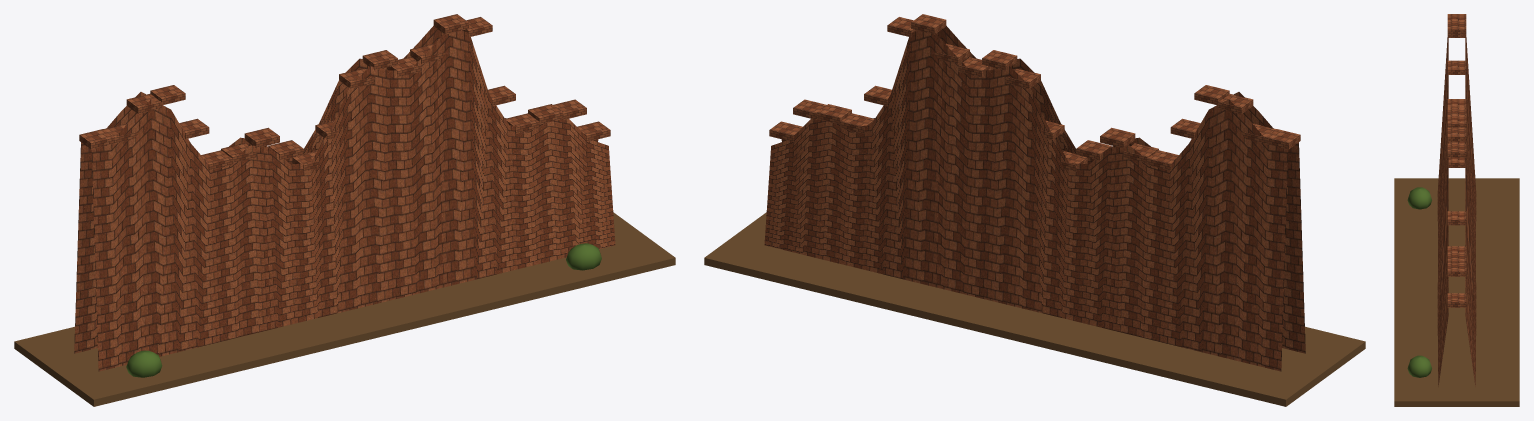
File: mur-loropeni.glb
3 views of the same model, side by side, from view 1: azimuth 30°, elevation 25°; view 2: azimuth 150°, elevation 25°; view 3: azimuth 270°, elevation 25° (orthographic). The views are drawn at different scales.
Parts seen in each view (by area): view 1: mur-loropeni; view 2: mur-loropeni; view 3: mur-loropeni.
Boxes of the visible parts, <box> form: mur-loropeni: <box>14,14,675,406</box>; mur-loropeni: <box>704,14,1365,406</box>; mur-loropeni: <box>1394,14,1519,406</box>.
Size of the model in its own units: 13.5 by 5.77 by 3.2.
Materials: 4 (1 with a texture image).
